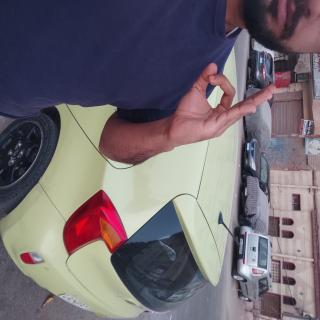Space: (45, 57, 112, 221)
